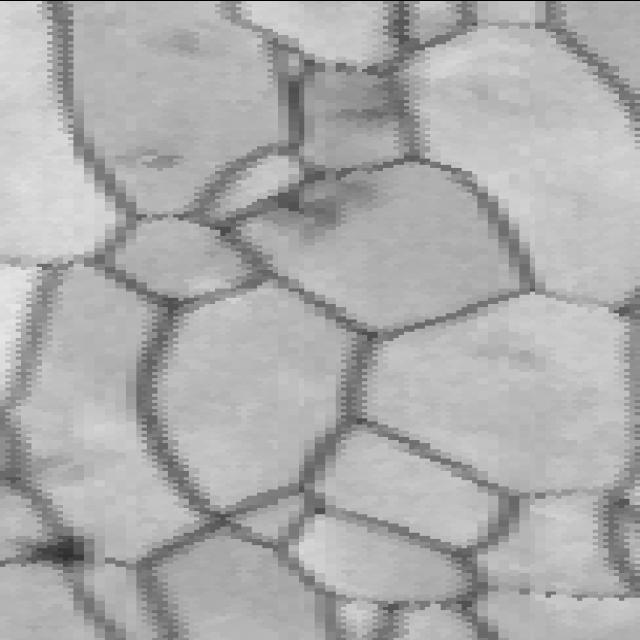good_void: (247, 163, 393, 251), (0, 521, 107, 581), (323, 72, 414, 130), (104, 128, 187, 177)
